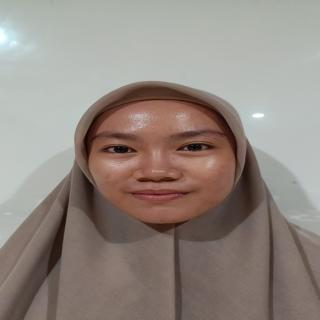Netral: (74, 94, 248, 230)
